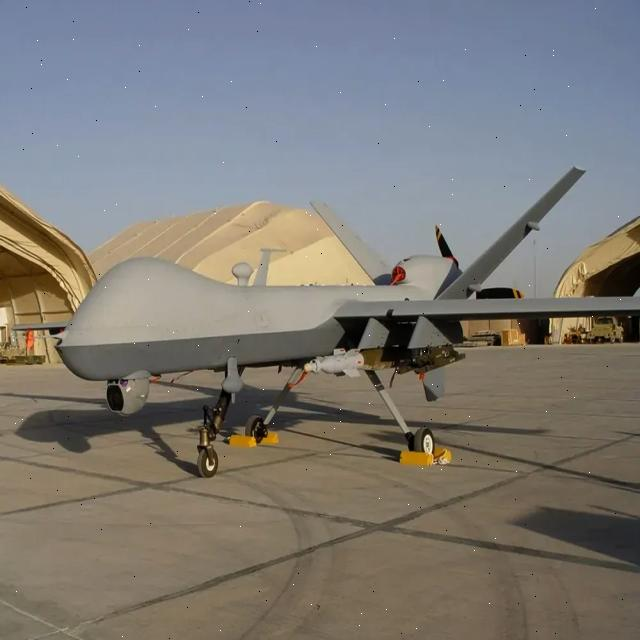MQ9: (30, 123, 640, 485)
